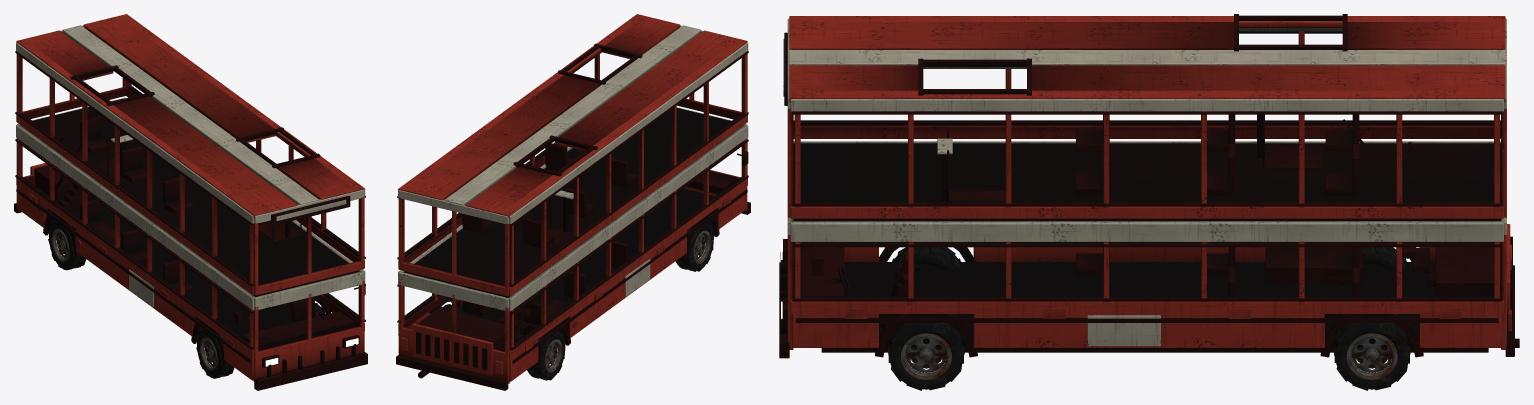
The model's file is e_double_bus.glb.
3 renders of one model, left to right at view 1: azimuth 30°, elevation 25°; view 2: azimuth 150°, elevation 25°; view 3: azimuth 270°, elevation 25°, orthographic. The views are drawn at different scales.
Parts seen in each view (by area): view 1: body, wheel_FR, wheel_RR; view 2: body, panel_trunk, wheel_RR, wheel_FR; view 3: body, wheel_RL, wheel_FL, wheel_FR, wheel_RR.
Part boxes in pixels (x1,y1,x2,y2): body: (14,14,367,390); wheel_FR: (196,329,234,378); wheel_RR: (48,220,86,270); body: (396,14,750,390); panel_trunk: (412,323,493,375); wheel_RR: (527,331,565,380); wheel_FR: (675,222,714,271); body: (779,14,1519,358); wheel_RL: (1333,323,1410,390); wheel_FL: (888,323,964,390); wheel_FR: (892,247,960,269); wheel_RR: (1362,247,1406,269).
Size of the model in its own units: 2.86 by 4.23 by 9.55.
Materials: 5 (4 with a texture image).
